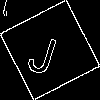J: (25, 25, 63, 77)
